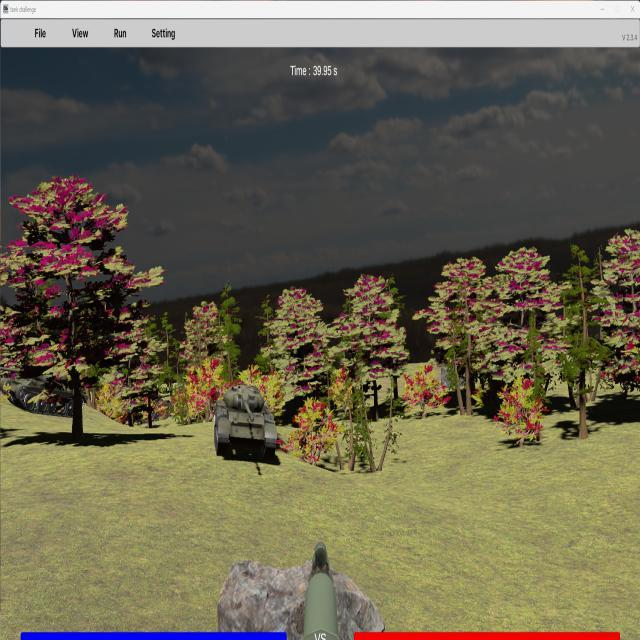Tank: (214, 384, 277, 461)
